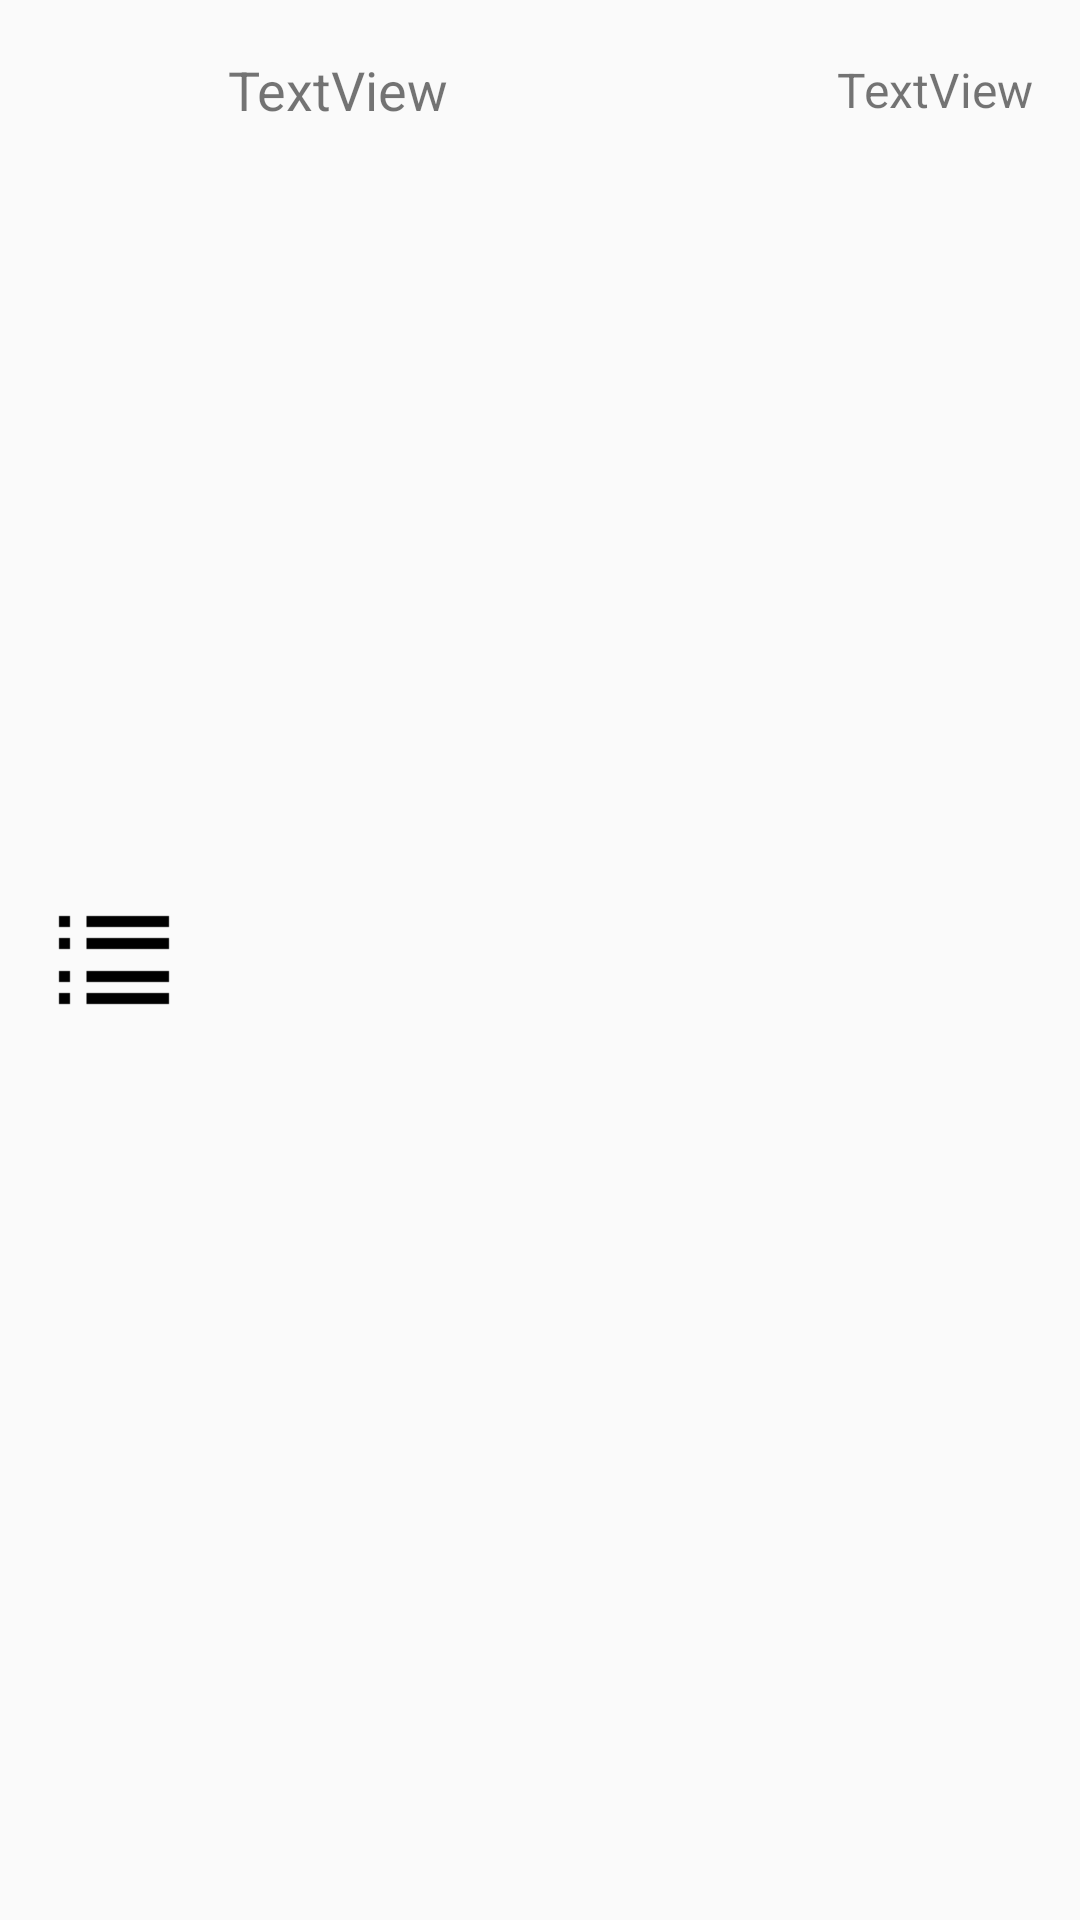

Where icons sit on this 1080*1920 app screen, as (x1, y1, x2, y2):
questionnaire: (58, 915, 170, 1005)
